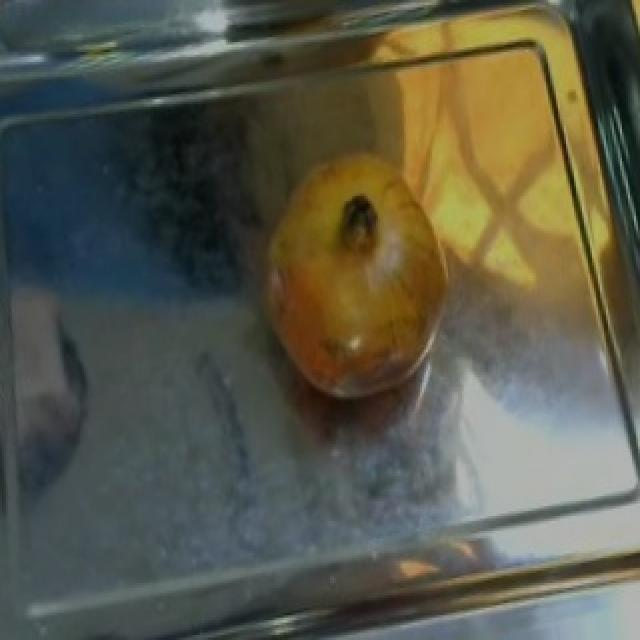fruit: (240, 159, 474, 424)
